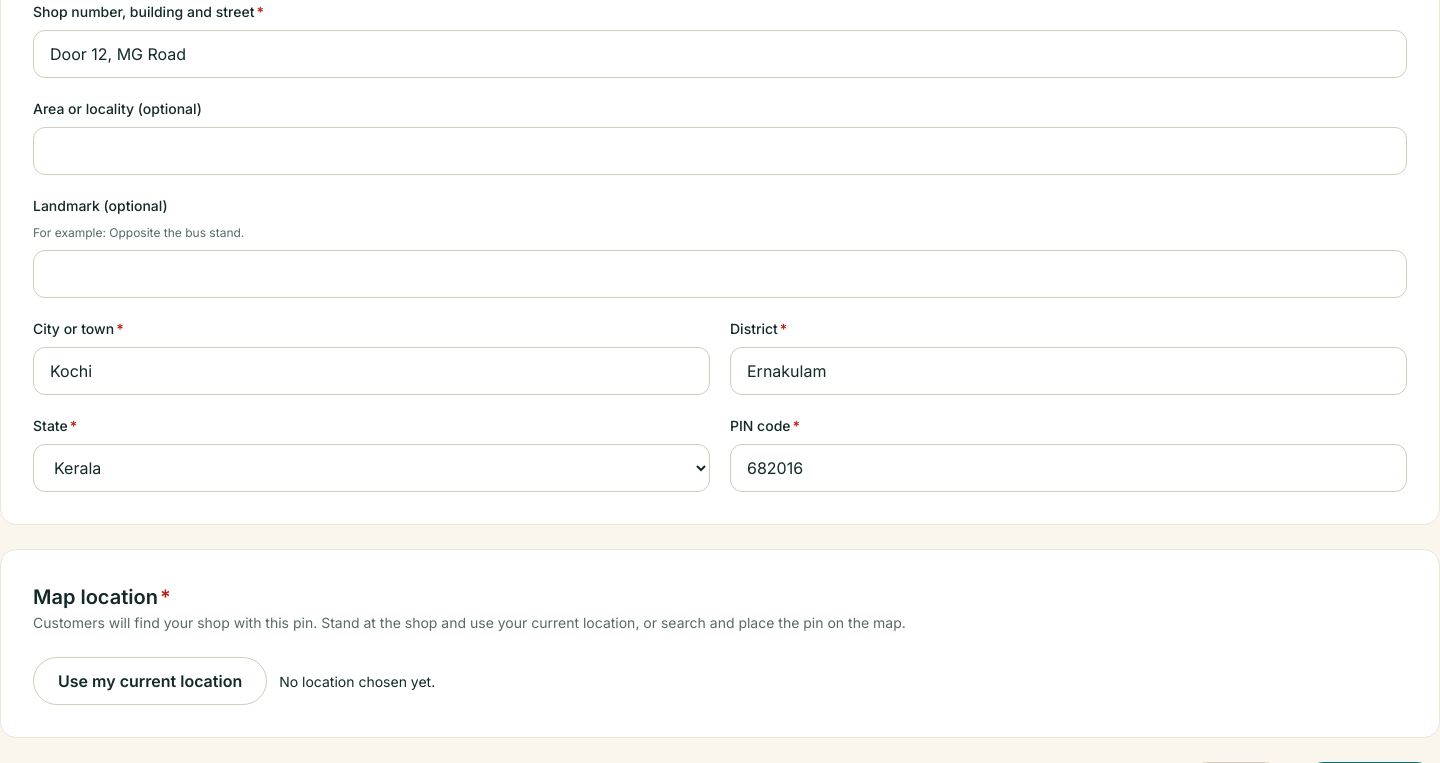
Test: ShopProfileForm › uses the device location and submits it in the hidden fields
(page scrolled)
Click the button "Use my current location" at [150, 681], box [33, 657, 267, 705]
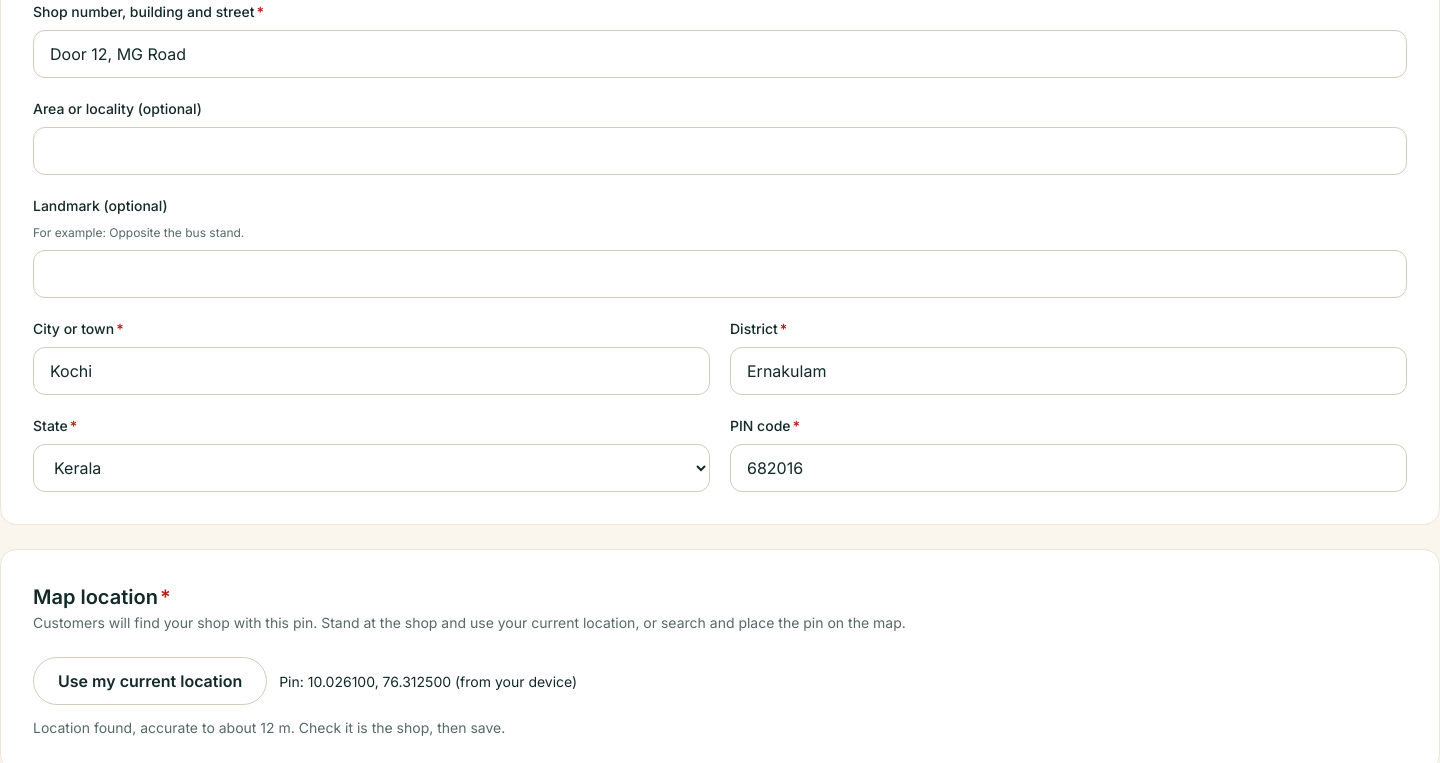
Check: the text "Pin: 10.026100, 76.312500 (from your device)" is shown, box [279, 670, 577, 692]
Check: the text "Location found, accurate to about 12 m. Check it is the shop, then save." is shown, box [33, 719, 505, 736]
